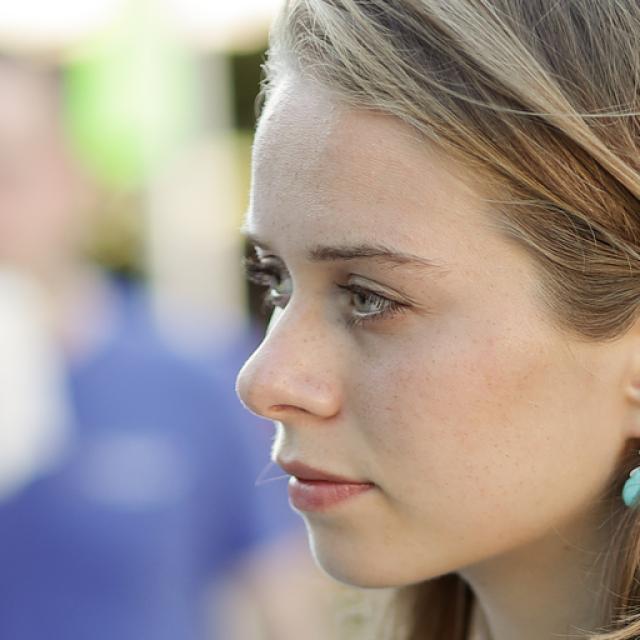neutral: (231, 48, 626, 590)
